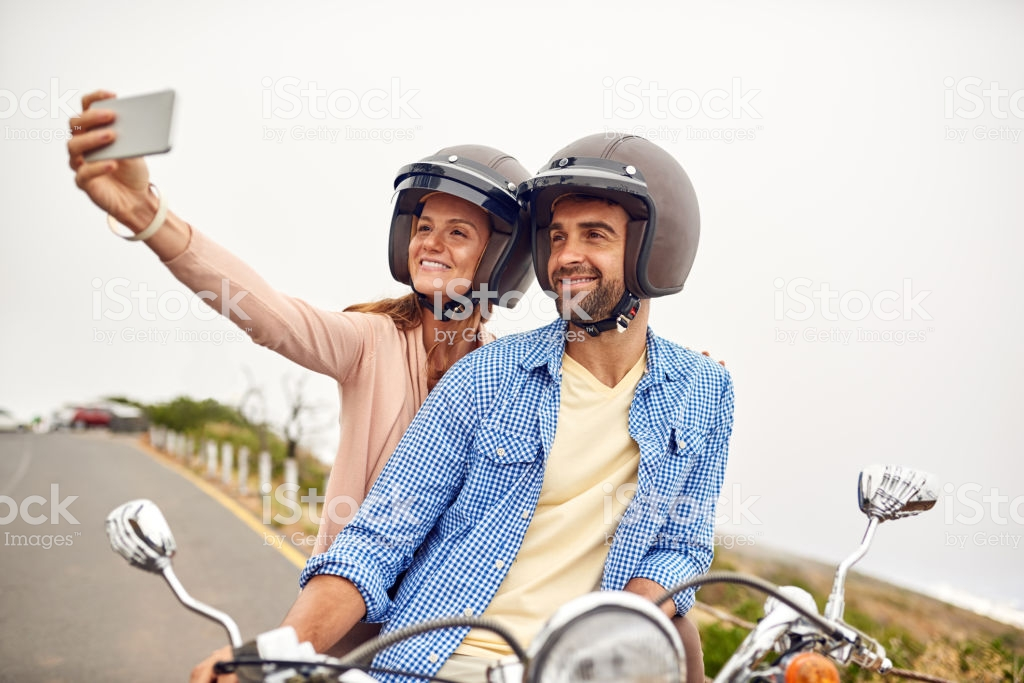helmet: (526, 117, 704, 289), (403, 150, 524, 301)
